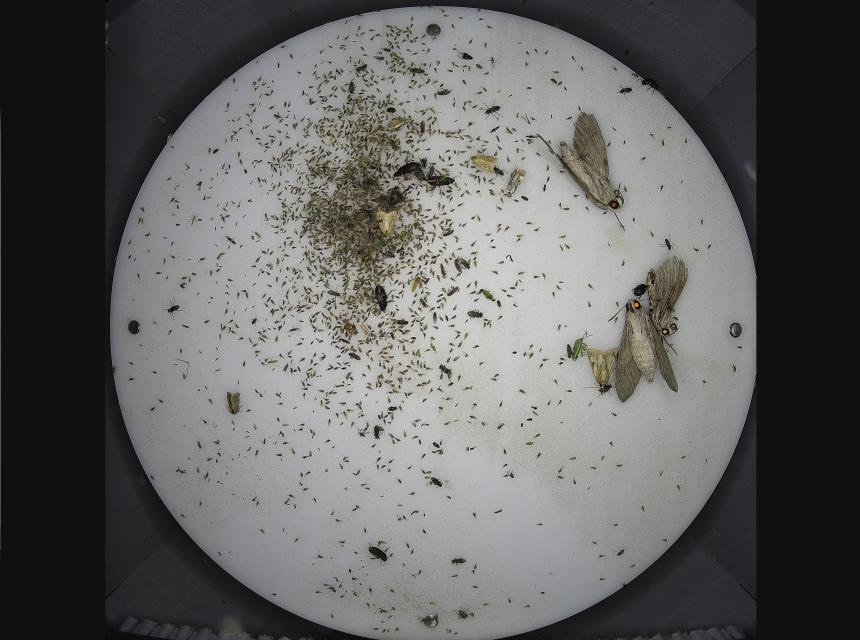insect: (571, 332, 590, 362), (367, 544, 392, 566), (374, 284, 390, 313), (393, 163, 421, 179), (164, 299, 182, 321), (428, 175, 456, 187), (483, 105, 503, 118), (452, 607, 470, 620), (614, 85, 633, 96), (449, 556, 467, 567), (409, 64, 427, 75), (465, 310, 485, 319), (374, 424, 380, 442)
moth: (615, 256, 687, 409), (553, 111, 623, 210), (586, 346, 618, 396), (504, 168, 526, 196), (470, 153, 497, 175), (377, 209, 396, 234), (225, 391, 241, 416)
